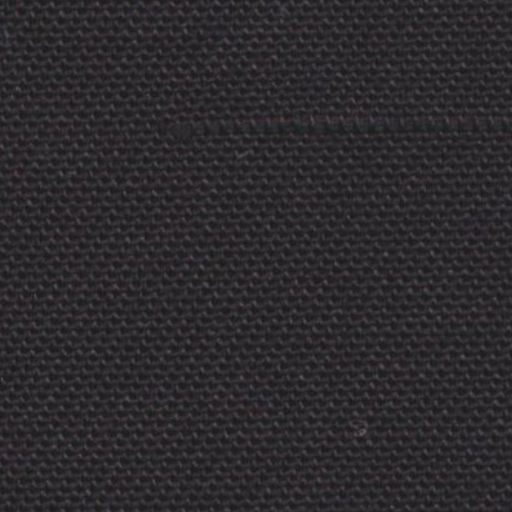DaiSha: (224, 102, 496, 139)
